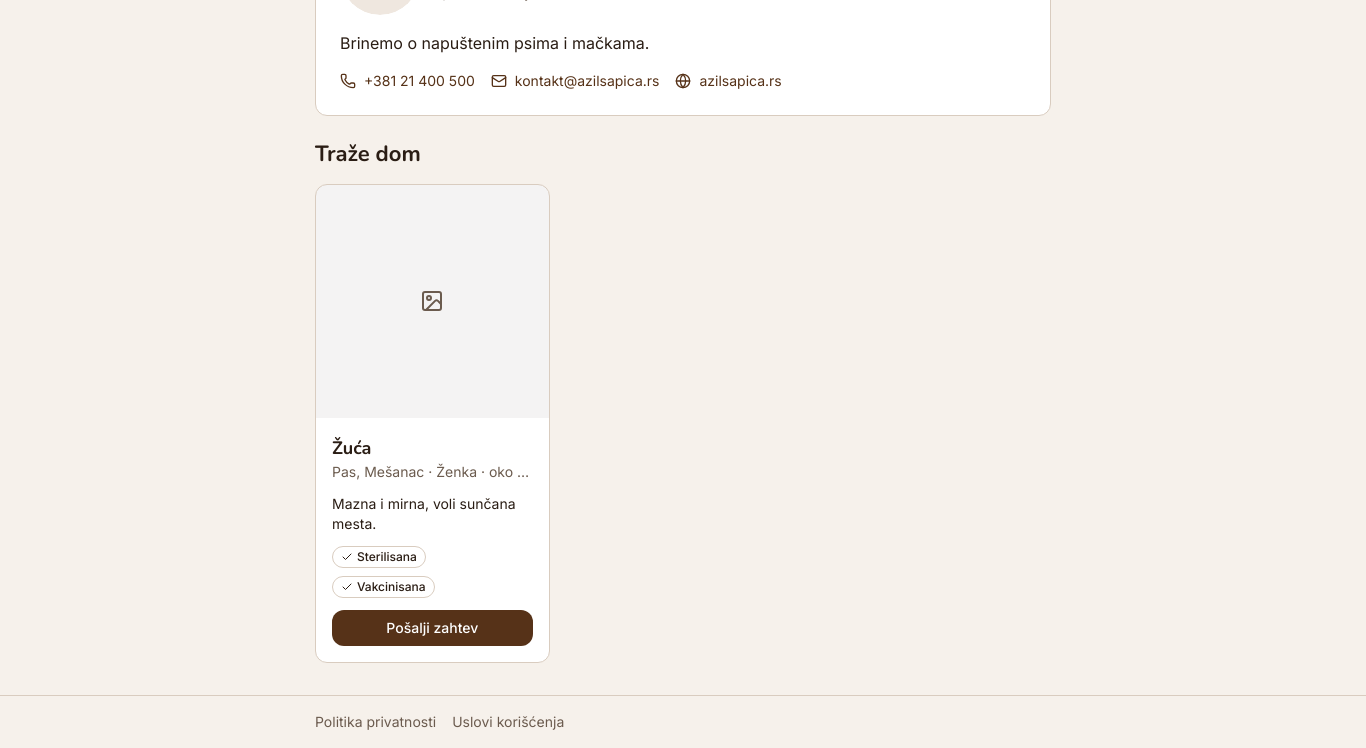
Test: S23 — request Dialog › 401 from EP-63 → the sign-in prompt
The width and height of the screenshot is (1366, 748).
(page scrolled)
Click the button "Pošalji zahtev": point(432, 628) [332, 610, 533, 646]
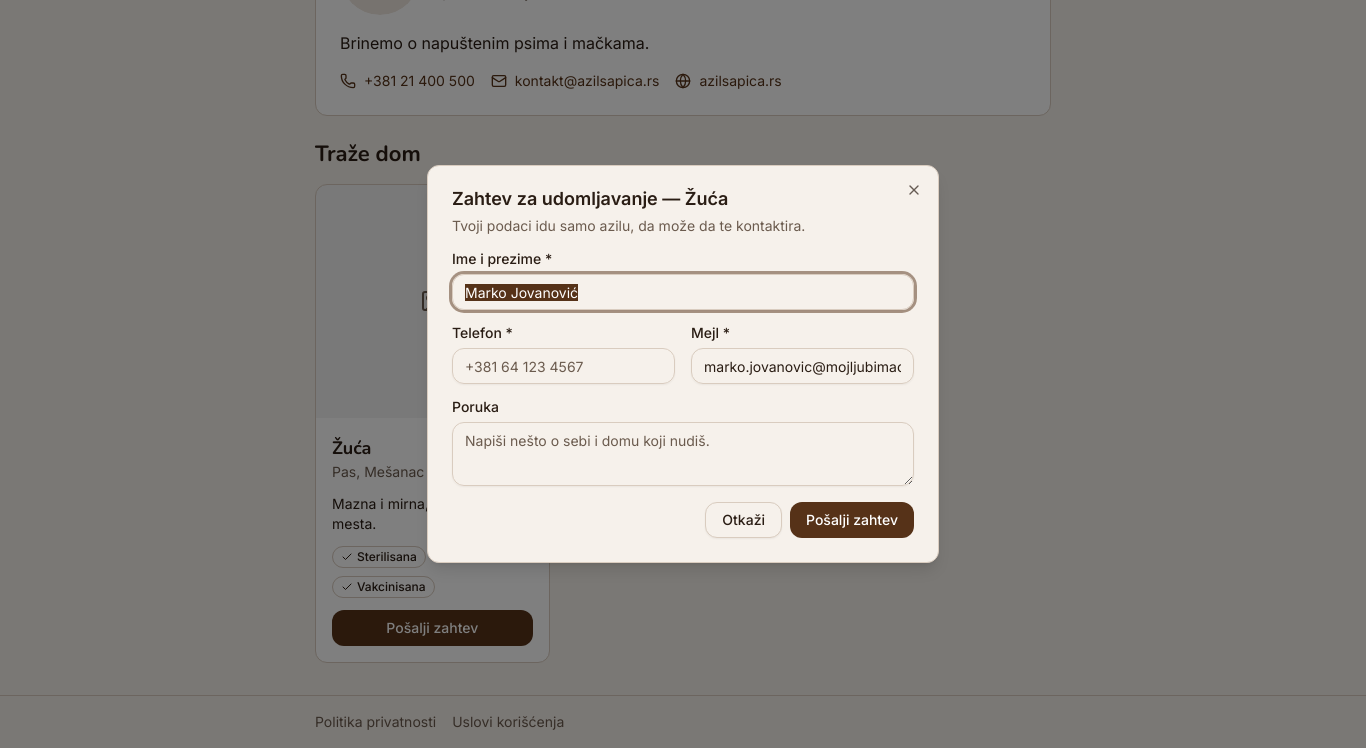
In the field labelled "Telefon *": point(564, 366) [452, 348, 675, 384], type "+381641234567"
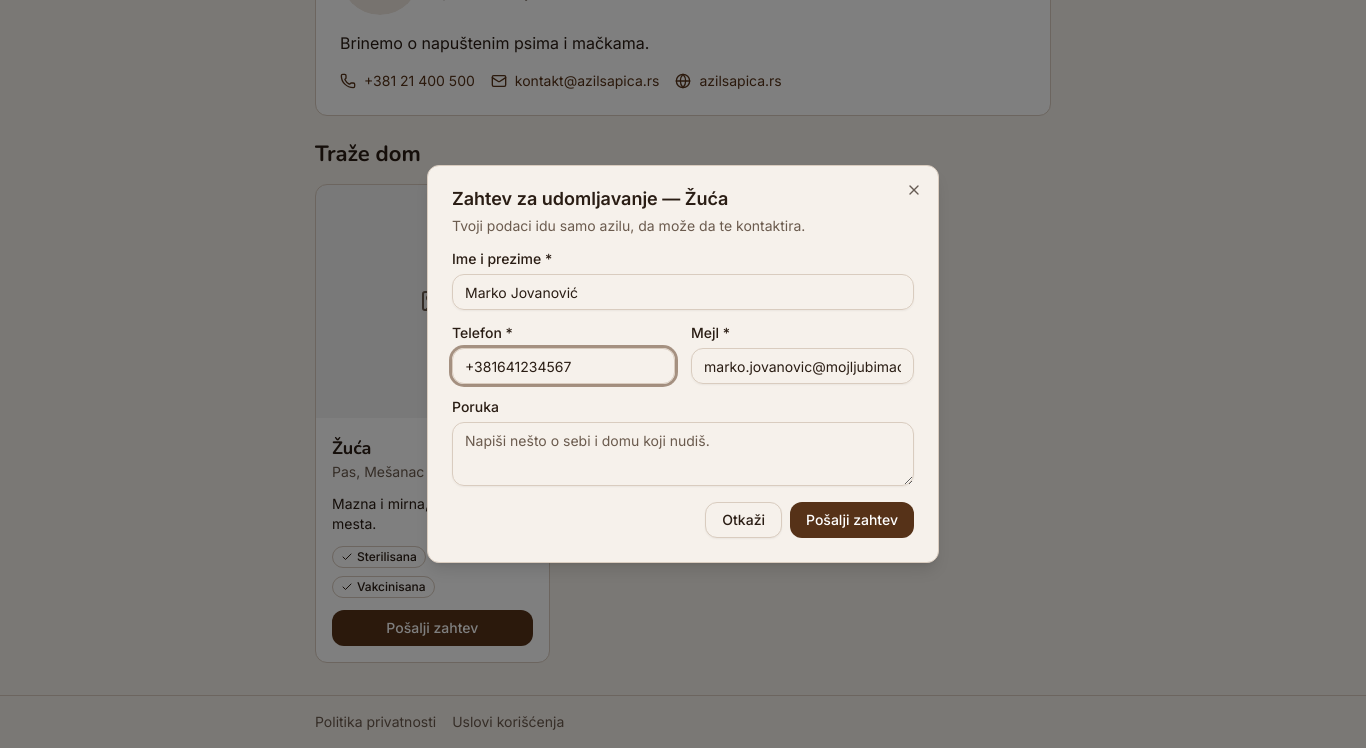
Click the button "Pošalji zahtev": point(852, 520) [790, 502, 914, 538]
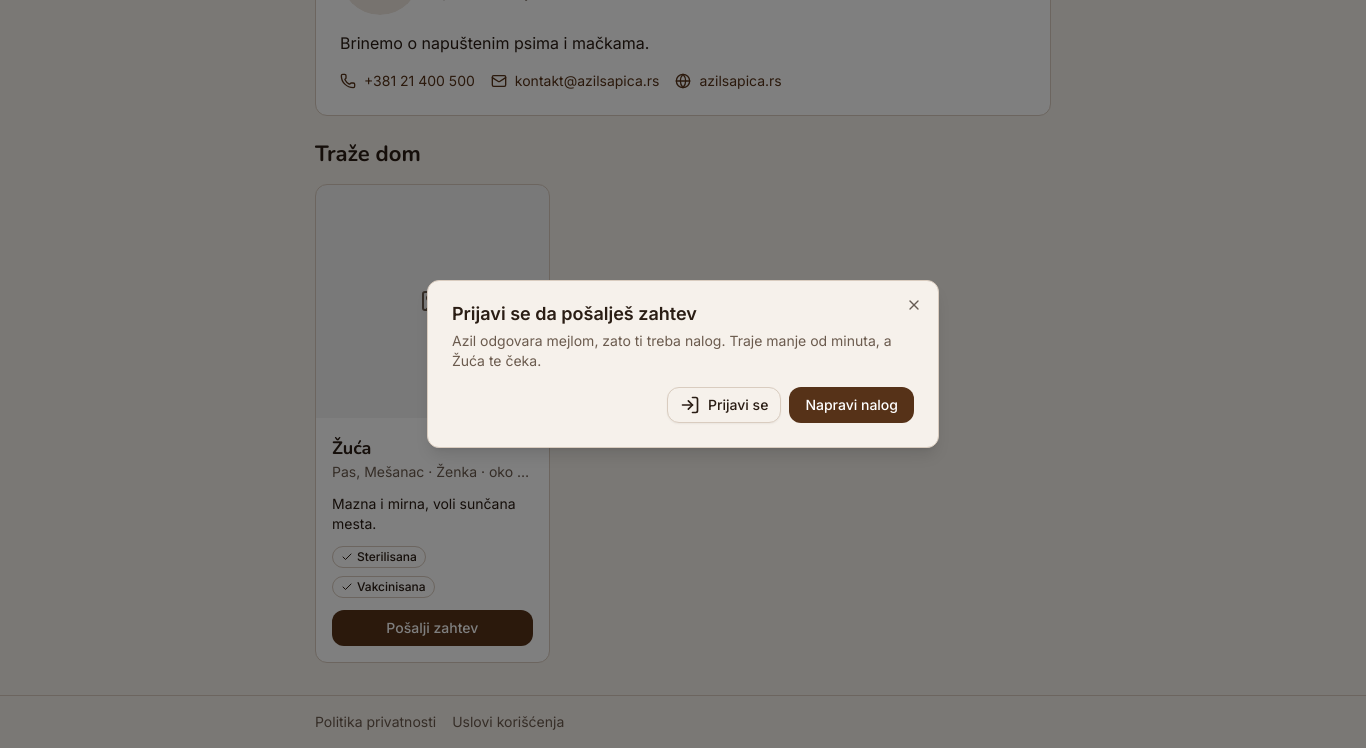
Check: the dialog "Prijavi se da pošalješ zahtev" is shown, box [427, 280, 939, 448]
